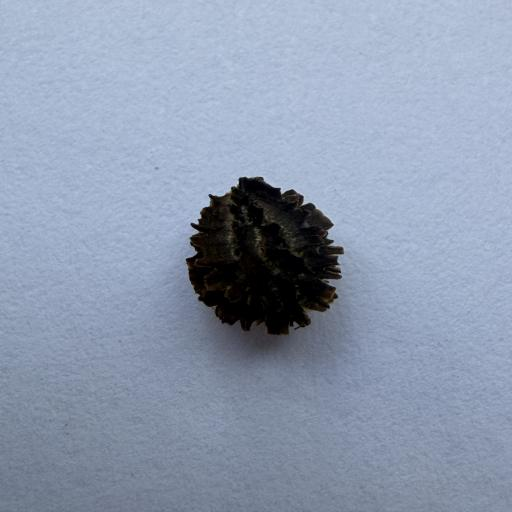papaya_seed: (166, 164, 352, 343)
